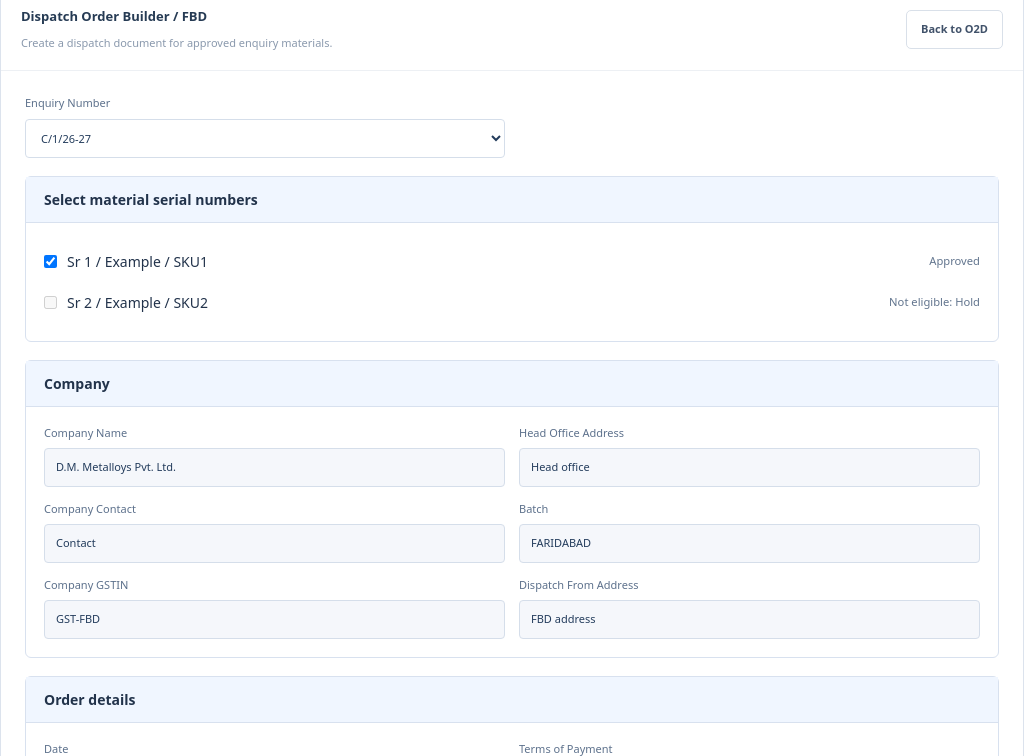
Test: Dispatch Order builder › can deselect the initial Sr and saves only selected serials plus draft overrides
The width and height of the screenshot is (1024, 756).
Click the checkbox labelled "Sr 1 / Example / SKU1 Approved" at (50, 261), box [44,255,57,268]
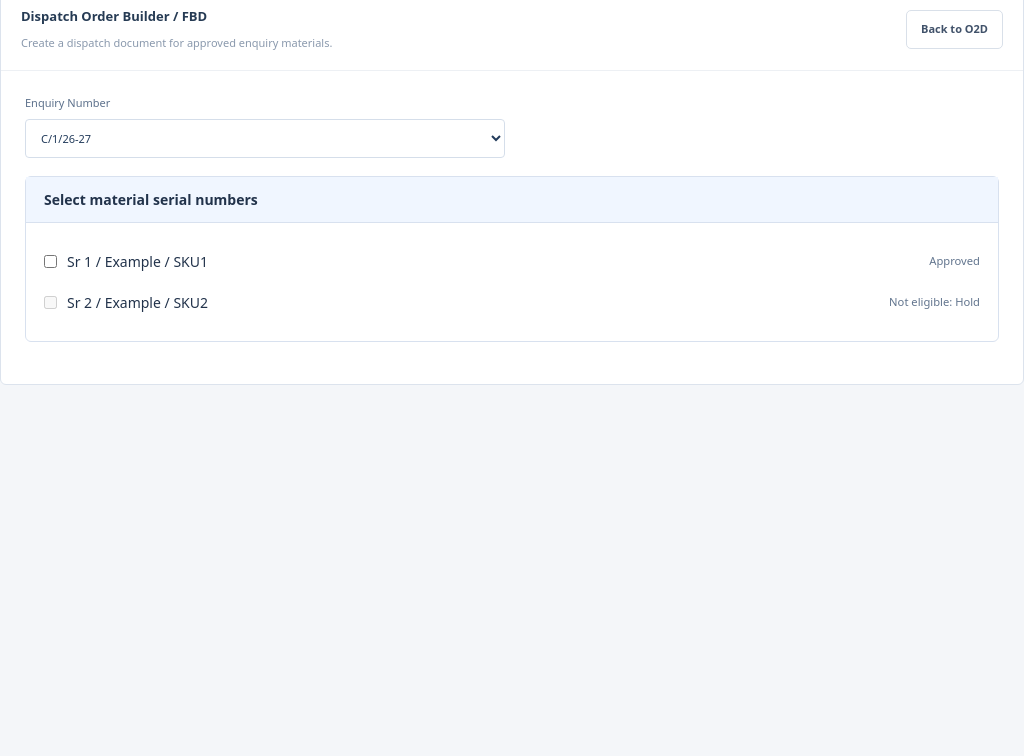
Expected: the checkbox labelled "Sr 1 / Example / SKU1 Approved" is not checked
Click the checkbox labelled "Sr 1 / Example / SKU1 Approved" at (50, 261), box [44,255,57,268]
(page scrolled)
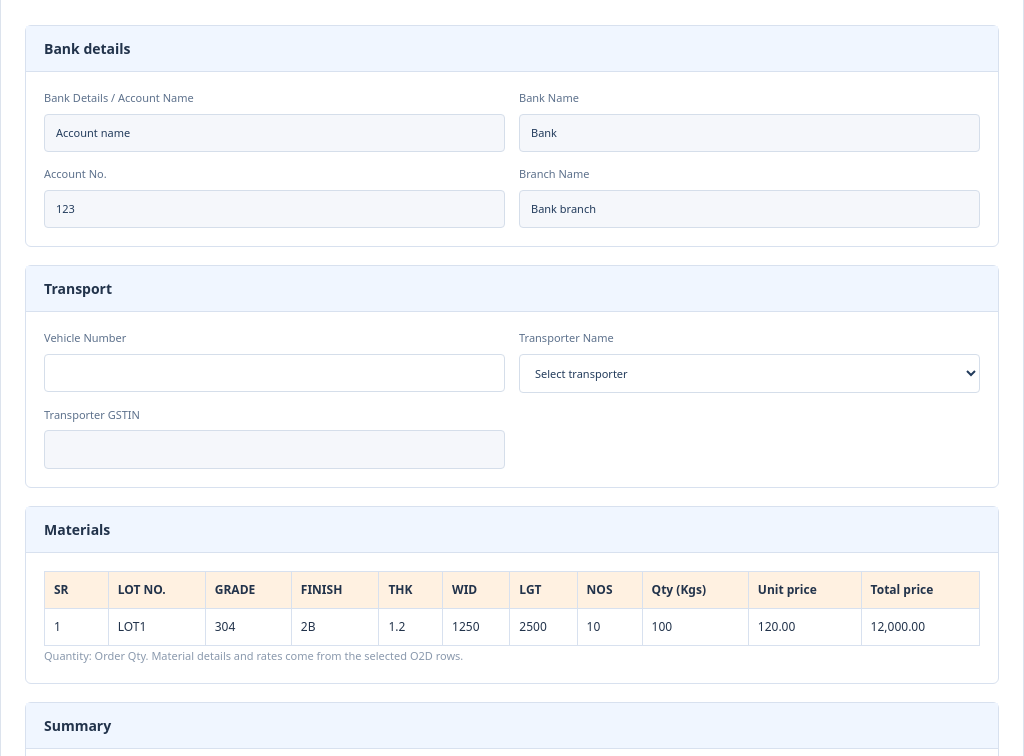
Type "RJ40GA3980" into the field labelled "Vehicle Number" at (274, 373), box [44,354,505,392]
(page scrolled)
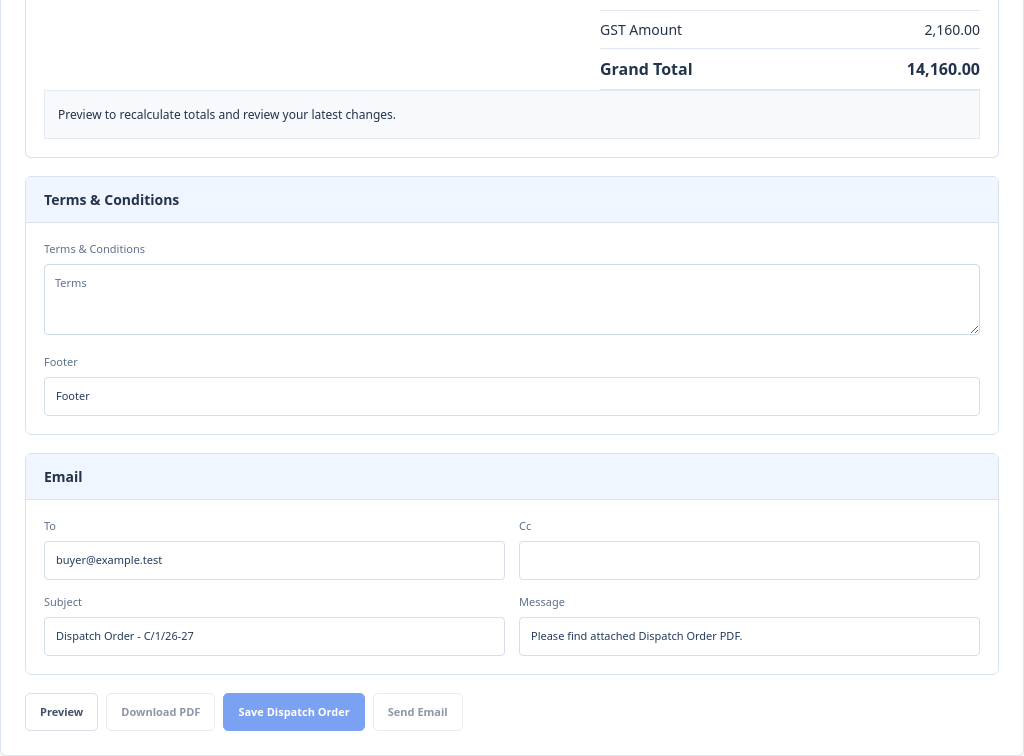
Click the button "Preview" at (62, 712), box [25,693,98,731]
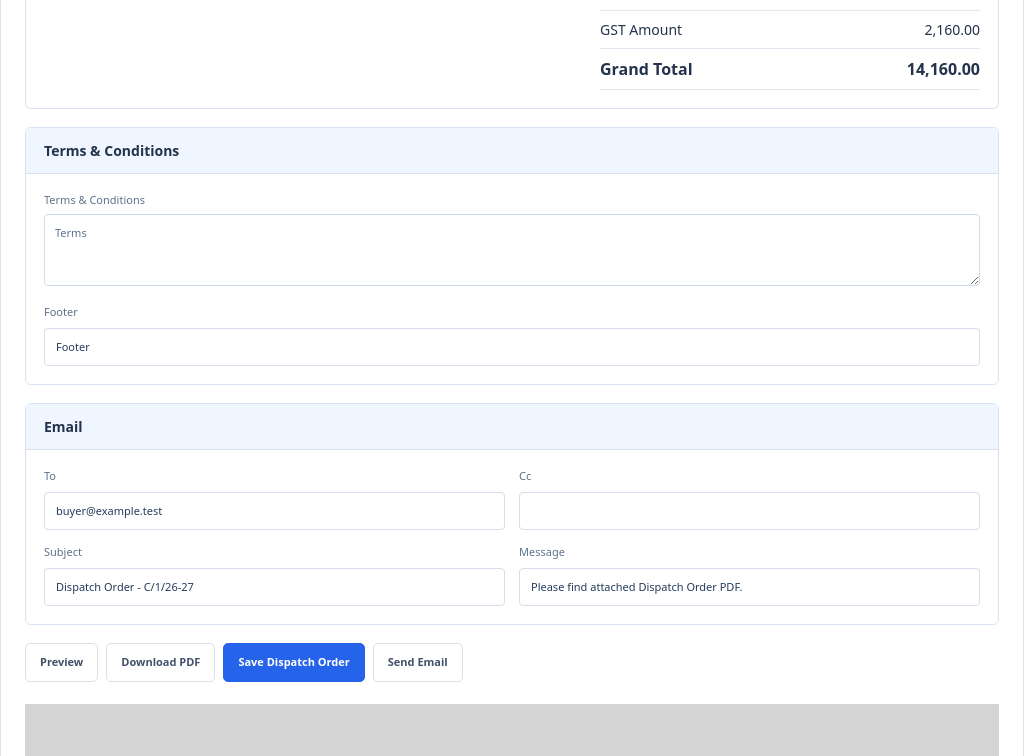
Expected: the button "Save Dispatch Order" is enabled
Click the button "Save Dispatch Order" at (294, 662), box [223,643,365,682]
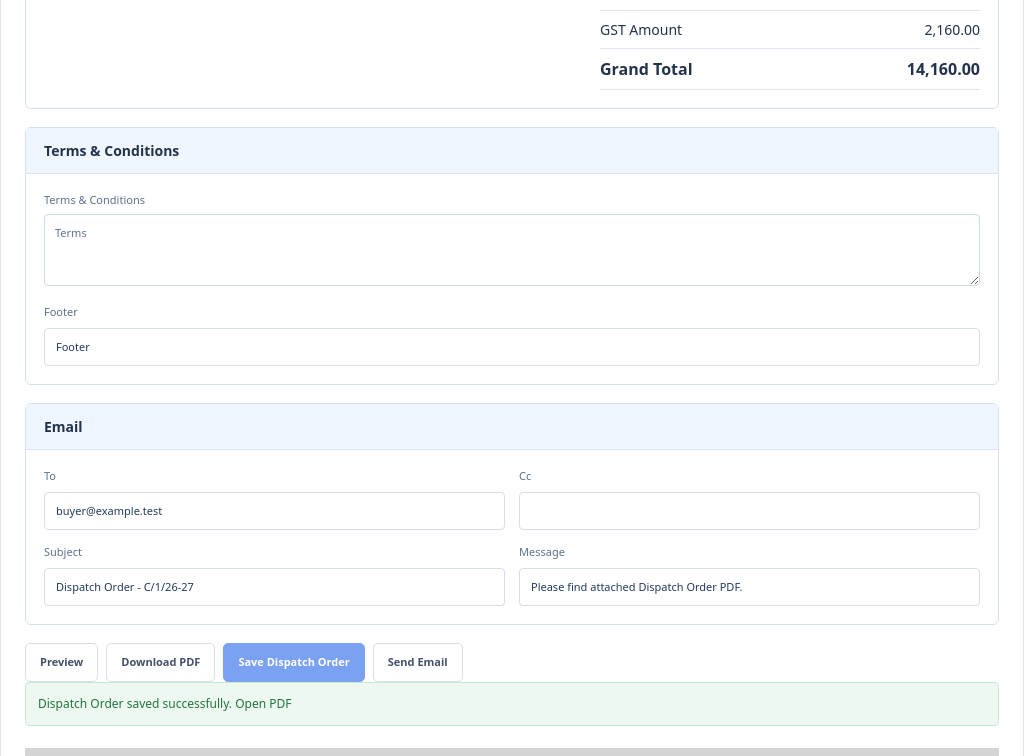
Expected: the link "Open PDF" is shown, [235,695,292,712]
